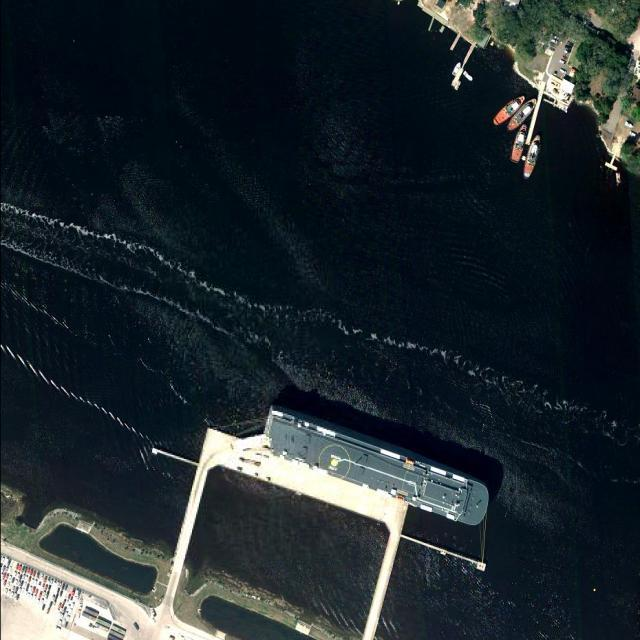Dock: (197, 424, 416, 530)
Other Ship: (488, 92, 528, 130), (504, 96, 540, 136), (522, 134, 544, 181), (509, 123, 530, 164)
RoRo: (253, 404, 498, 533)
